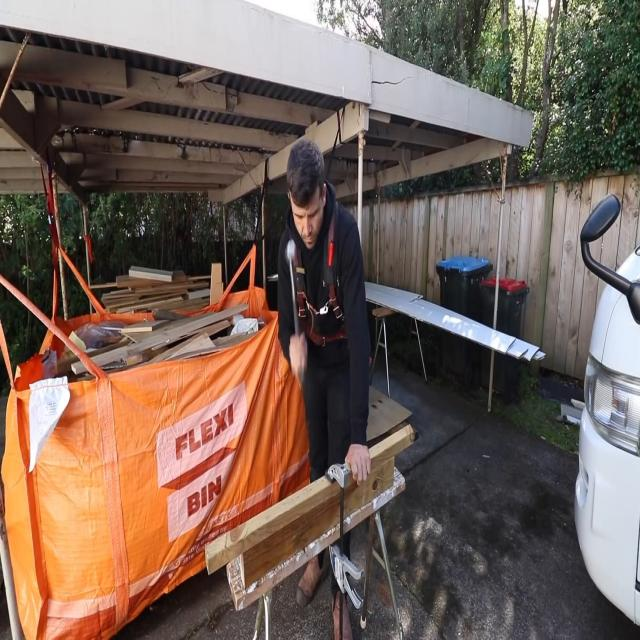hammer: (282, 238, 308, 388)
